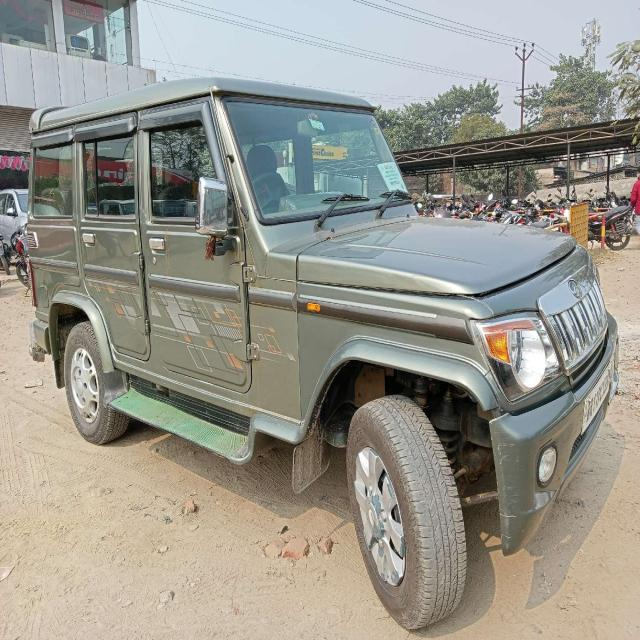light_vehicle: (25, 114, 611, 456)
